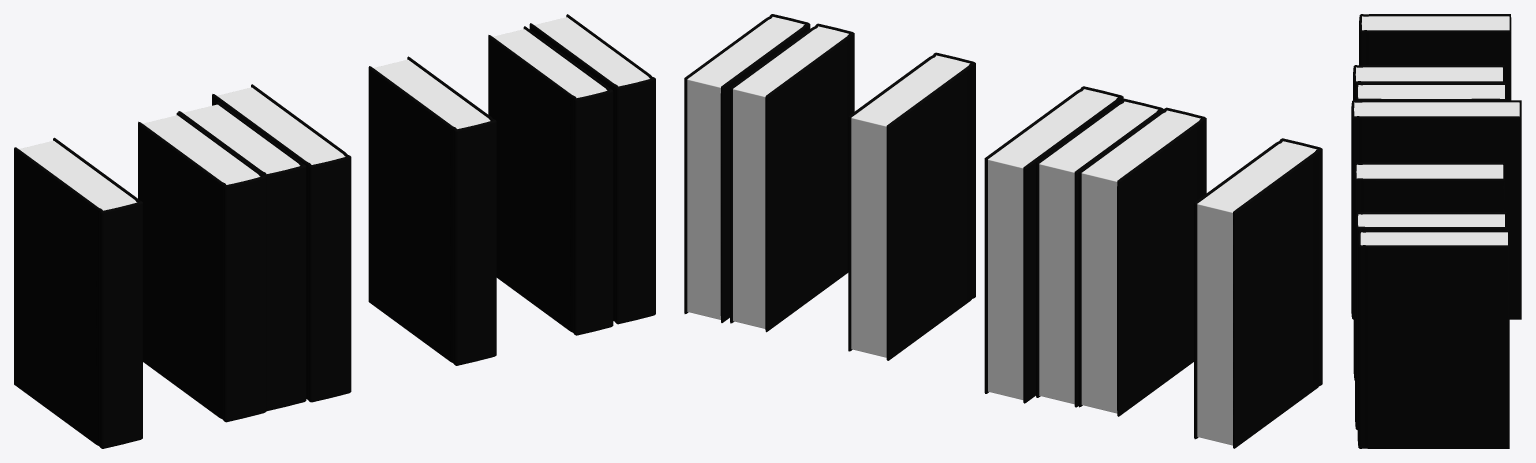
File: lfc_decorative_book_set.glb
3 views of the same model, side by side, from view 1: azimuth 30°, elevation 25°; view 2: azimuth 150°, elevation 25°; view 3: azimuth 270°, elevation 25° (orthographic). The views are drawn at different scales.
Parts seen in each view (by area): view 1: book_hardcover_01_cover02, book_hardcover_01_cover13, book_hardcover_01_cover06, book_hardcover_01_cover15, book_hardcover_01_cover08, book_hardcover_01_cover23, book_hardcover_01_cover07; view 2: book_hardcover_01_cover02, book_hardcover_01_cover13, book_hardcover_01_cover06, book_hardcover_01_cover15, book_hardcover_01_cover08, book_hardcover_01_cover23, book_hardcover_01_cover07; view 3: book_hardcover_01_cover23, book_hardcover_01_cover08, book_hardcover_01_cover02, book_hardcover_01_cover13, book_hardcover_01_cover15, book_hardcover_01_cover07, book_hardcover_01_cover06.
Boxes of the visible parts, left/top/right/bottom form: book_hardcover_01_cover02: left=14, top=137, right=142, bottom=448; book_hardcover_01_cover13: left=368, top=56, right=496, bottom=365; book_hardcover_01_cover06: left=138, top=112, right=266, bottom=422; book_hardcover_01_cover15: left=488, top=26, right=613, bottom=335; book_hardcover_01_cover08: left=212, top=84, right=351, bottom=402; book_hardcover_01_cover23: left=529, top=14, right=655, bottom=324; book_hardcover_01_cover07: left=178, top=101, right=306, bottom=411; book_hardcover_01_cover02: left=1194, top=138, right=1322, bottom=448; book_hardcover_01_cover13: left=848, top=52, right=975, bottom=360; book_hardcover_01_cover06: left=1078, top=107, right=1206, bottom=416; book_hardcover_01_cover15: left=730, top=23, right=854, bottom=332; book_hardcover_01_cover08: left=984, top=86, right=1123, bottom=403; book_hardcover_01_cover23: left=684, top=14, right=810, bottom=322; book_hardcover_01_cover07: left=1036, top=98, right=1163, bottom=407; book_hardcover_01_cover23: left=1357, top=230, right=1509, bottom=448; book_hardcover_01_cover08: left=1351, top=100, right=1521, bottom=319; book_hardcover_01_cover02: left=1359, top=14, right=1511, bottom=100; book_hardcover_01_cover13: left=1353, top=162, right=1504, bottom=380; book_hardcover_01_cover15: left=1355, top=212, right=1506, bottom=429; book_hardcover_01_cover07: left=1355, top=82, right=1506, bottom=100; book_hardcover_01_cover06: left=1353, top=65, right=1504, bottom=99.
Size of the model in its own units: 0.5545 by 0.2278 by 0.1722.
7 materials, 7 textured.
